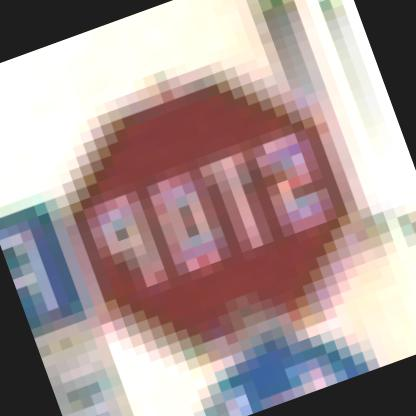stop: (31, 21, 400, 384)
